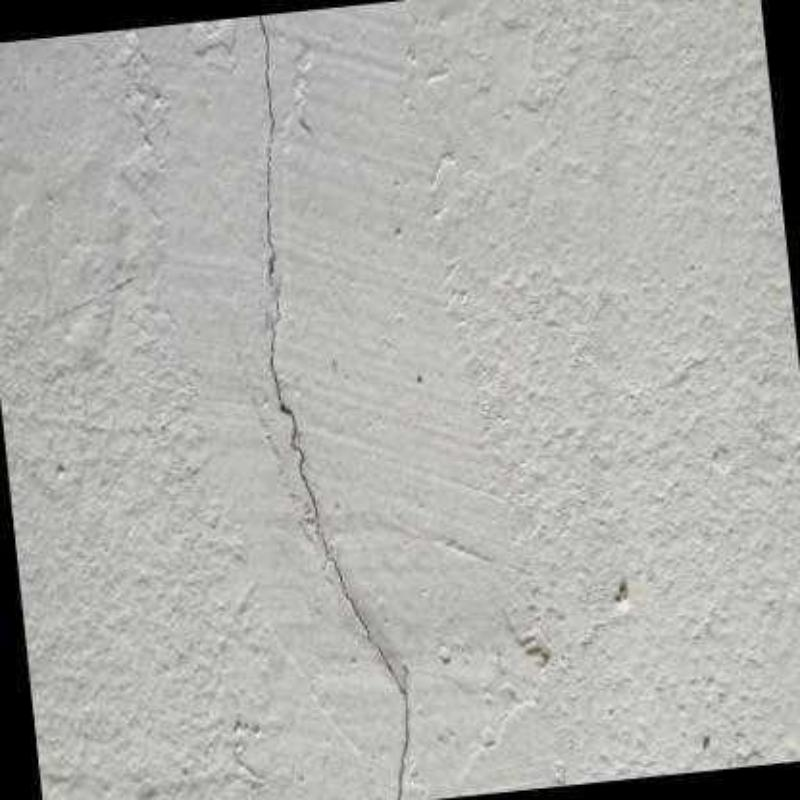pothole: (255, 12, 411, 798)
